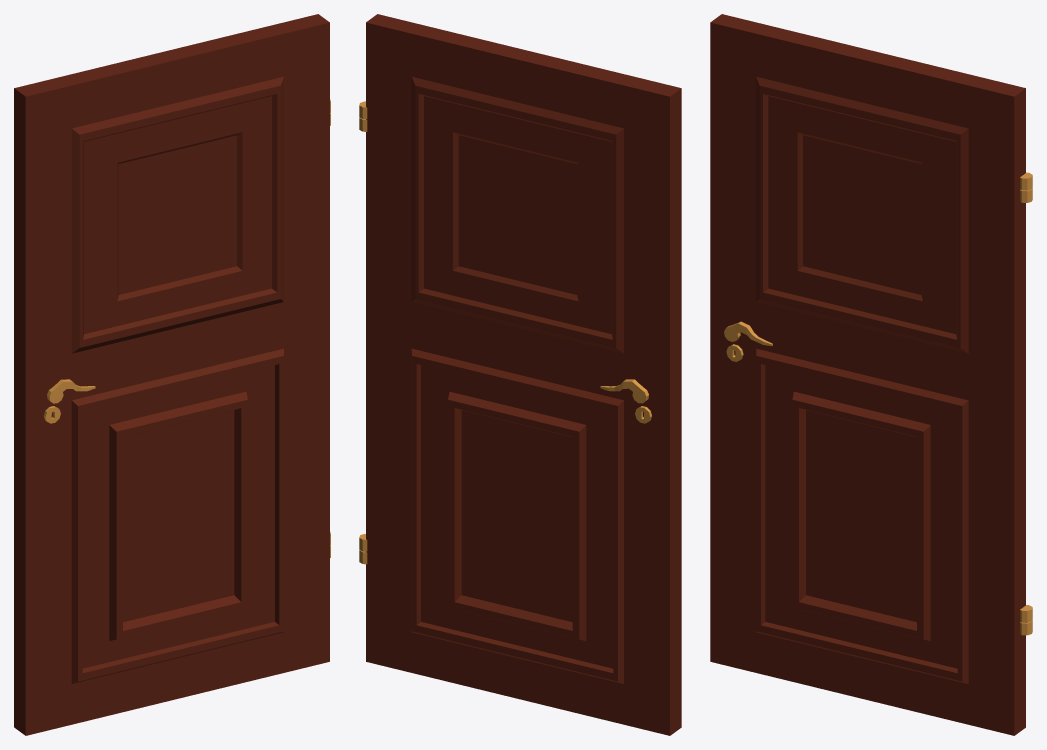
Rendered from door.fbx.
3 views of the same model, side by side, from view 1: azimuth 30°, elevation 25°; view 2: azimuth 150°, elevation 25°; view 3: azimuth 330°, elevation 25° (orthographic).
Parts seen in each view (by area): view 1: door; view 2: door; view 3: door, Cylinder, Cylinder.001.
Boxes of the visible parts, bbox=[...] form: door: bbox=[14, 14, 329, 735]; door: bbox=[366, 14, 681, 735]; door: bbox=[710, 14, 1025, 735]; Cylinder: bbox=[1020, 172, 1032, 635]; Cylinder.001: bbox=[724, 321, 772, 346].
Bounding box in the file's own units: 105 × 206 × 12.71.
